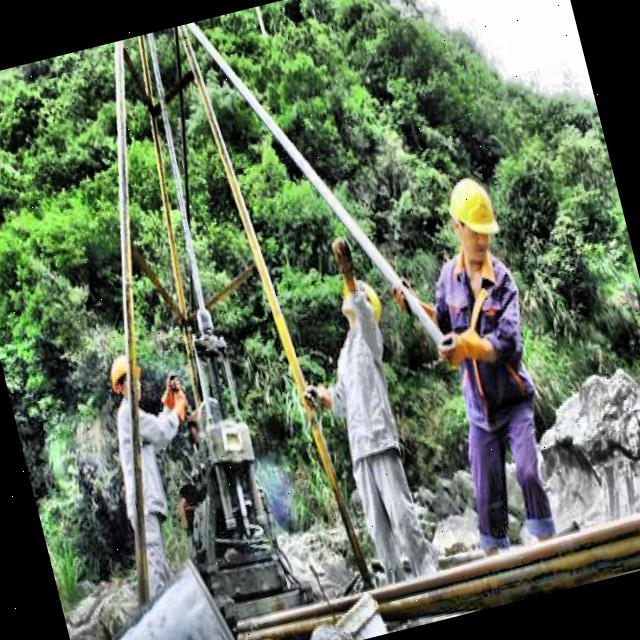helmet: (437, 165, 508, 266), (328, 265, 388, 333), (98, 348, 146, 410)
